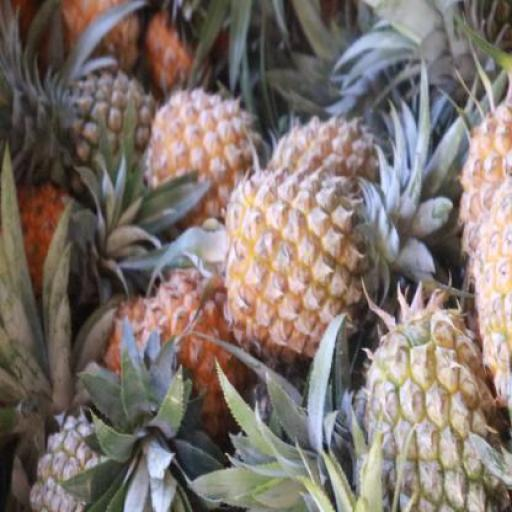------------------------------: (362, 315, 509, 511)
Pineapple - v8 v1: (226, 160, 366, 352), (134, 258, 243, 464), (148, 90, 266, 218)
